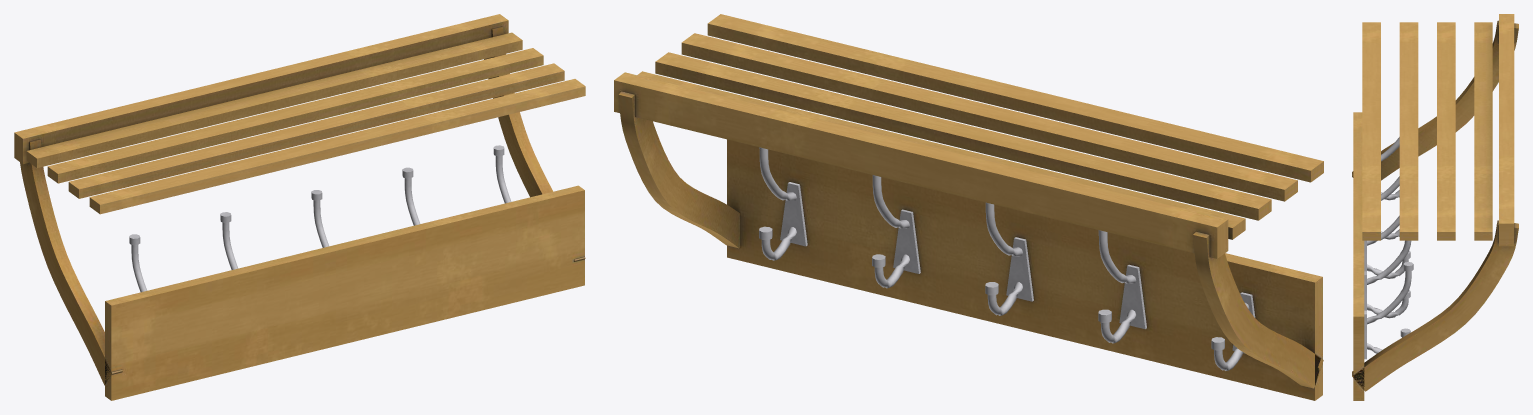
File: hall_shelf_hooks_web.glb
The picture shows the model from 3 angles, left to right: view 1: azimuth 30°, elevation 25°; view 2: azimuth 150°, elevation 25°; view 3: azimuth 270°, elevation 25°; orthographic projection. The views are drawn at different scales.
Parts seen in each view (by area): view 1: HallShelfHooks_Body, Chrome_Hooks; view 2: HallShelfHooks_Body, Chrome_Hooks; view 3: HallShelfHooks_Body, Chrome_Hooks.
Boxes of the visible parts, left/top/right/bottom form: HallShelfHooks_Body: left=14, top=14, right=585, bottom=400; Chrome_Hooks: left=129, top=145, right=511, bottom=292; HallShelfHooks_Body: left=614, top=14, right=1323, bottom=400; Chrome_Hooks: left=759, top=147, right=1255, bottom=370; HallShelfHooks_Body: left=1352, top=14, right=1518, bottom=400; Chrome_Hooks: left=1364, top=137, right=1413, bottom=359.
Size of the model in its own units: 0.8 by 0.32 by 0.2692.
2 materials, 2 textured.
